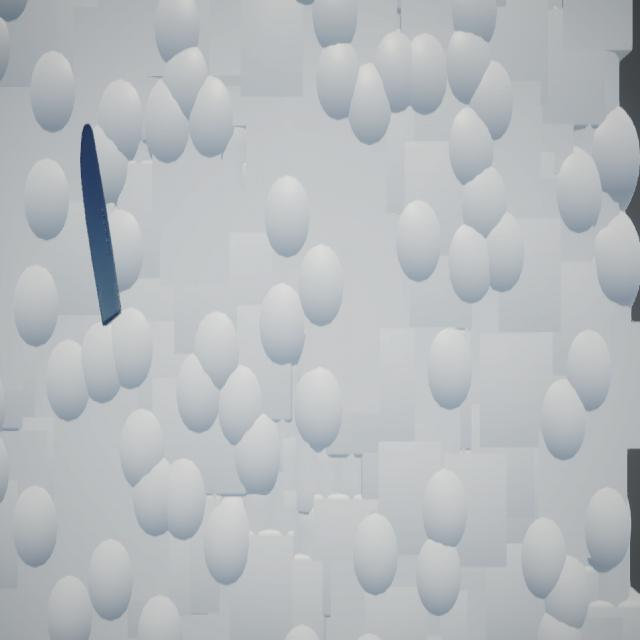top_knife: (82, 124, 123, 327)
